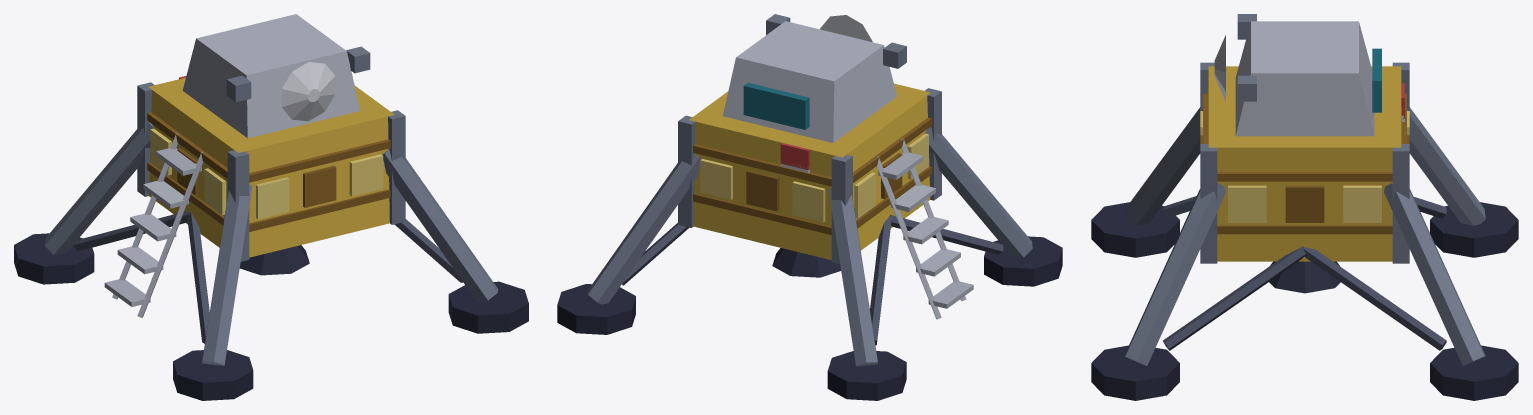
Rendered from Decor_Observatory_Lander.fbx.
3 views of the same model, side by side, from view 1: azimuth 30°, elevation 25°; view 2: azimuth 150°, elevation 25°; view 3: azimuth 270°, elevation 25° (orthographic). The views are drawn at different scales.
Parts seen in each view (by area): view 1: Lander_Body; view 2: Lander_Body; view 3: Lander_Body.
Boxes of the visible parts, x1,y1,x2,y2 form: Lander_Body: (14, 14, 528, 400); Lander_Body: (557, 14, 1062, 400); Lander_Body: (1091, 14, 1518, 400).
Size of the model in its own units: 10.8 by 7.64 by 10.8.
